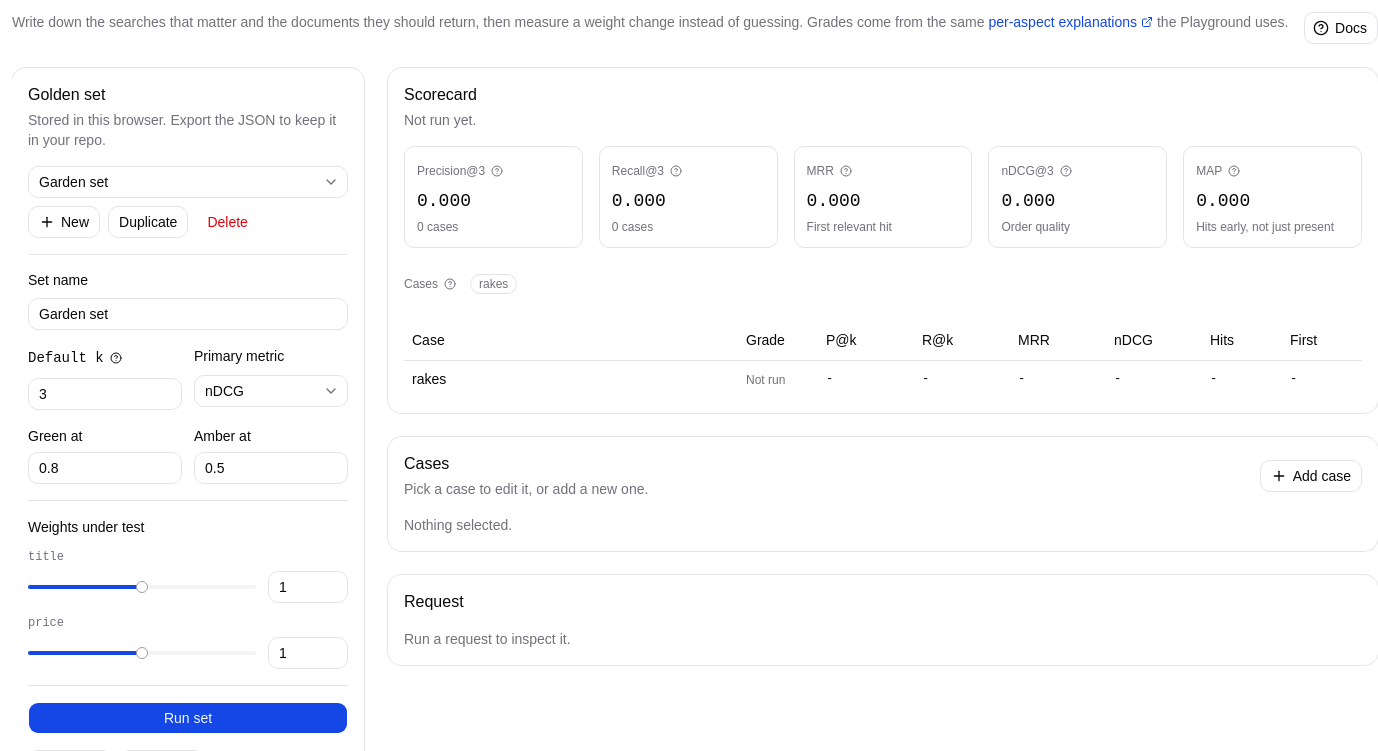
IndexScorecardPage › re-grades locally and flags a preview when a weight changes
Click the button "Run set". click: {"x": 188, "y": 718}
box: [28,702,348,734]
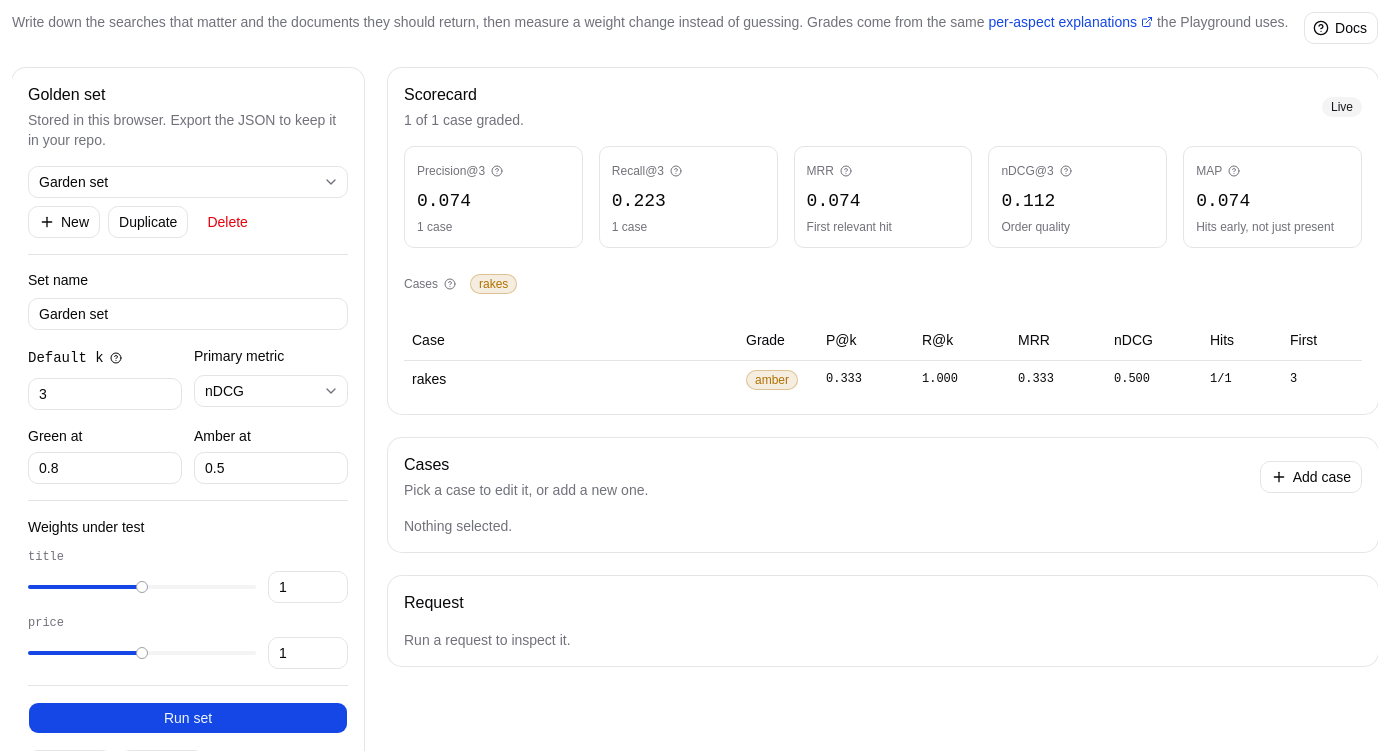
Expected: the icon "amber" is shown, [746,370,798,390]
Note: Leaning on price promotes `late` to rank 1 without another request.
Replace the text in the number field named "Weight for price" with "100". click: {"x": 308, "y": 653}
box: [268,637,348,669]
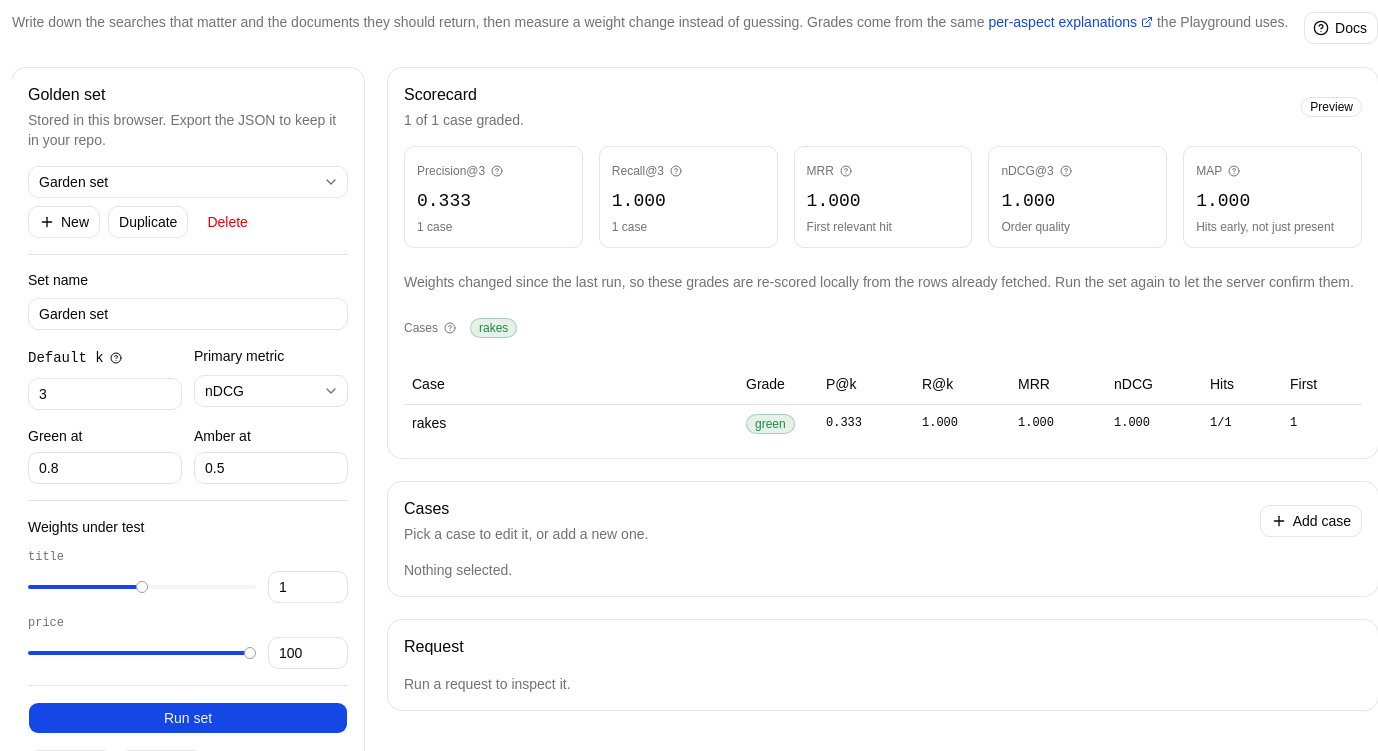
Expected: the icon "green" is shown, [746,414,795,434]
Expected: the text "Preview" is shown, [1301,97,1362,117]
